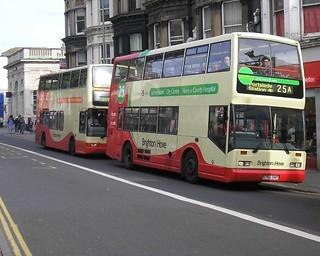bus: (107, 30, 306, 188), (35, 65, 136, 157)
